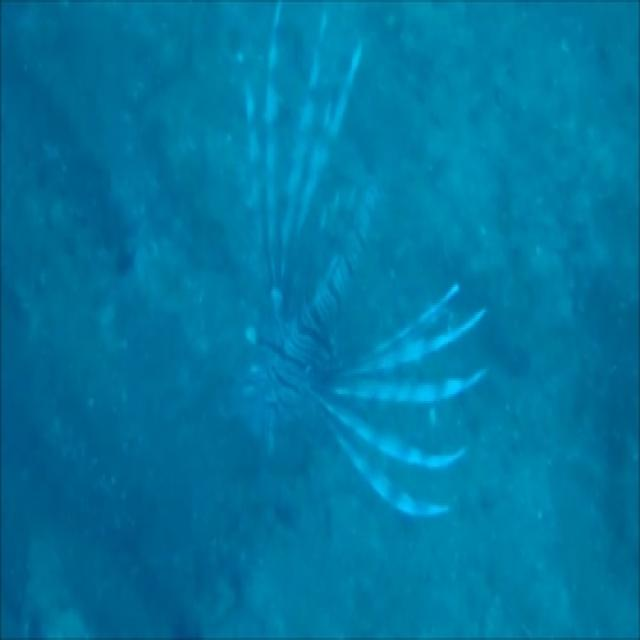Aslan Baligi: (232, 10, 490, 537)
